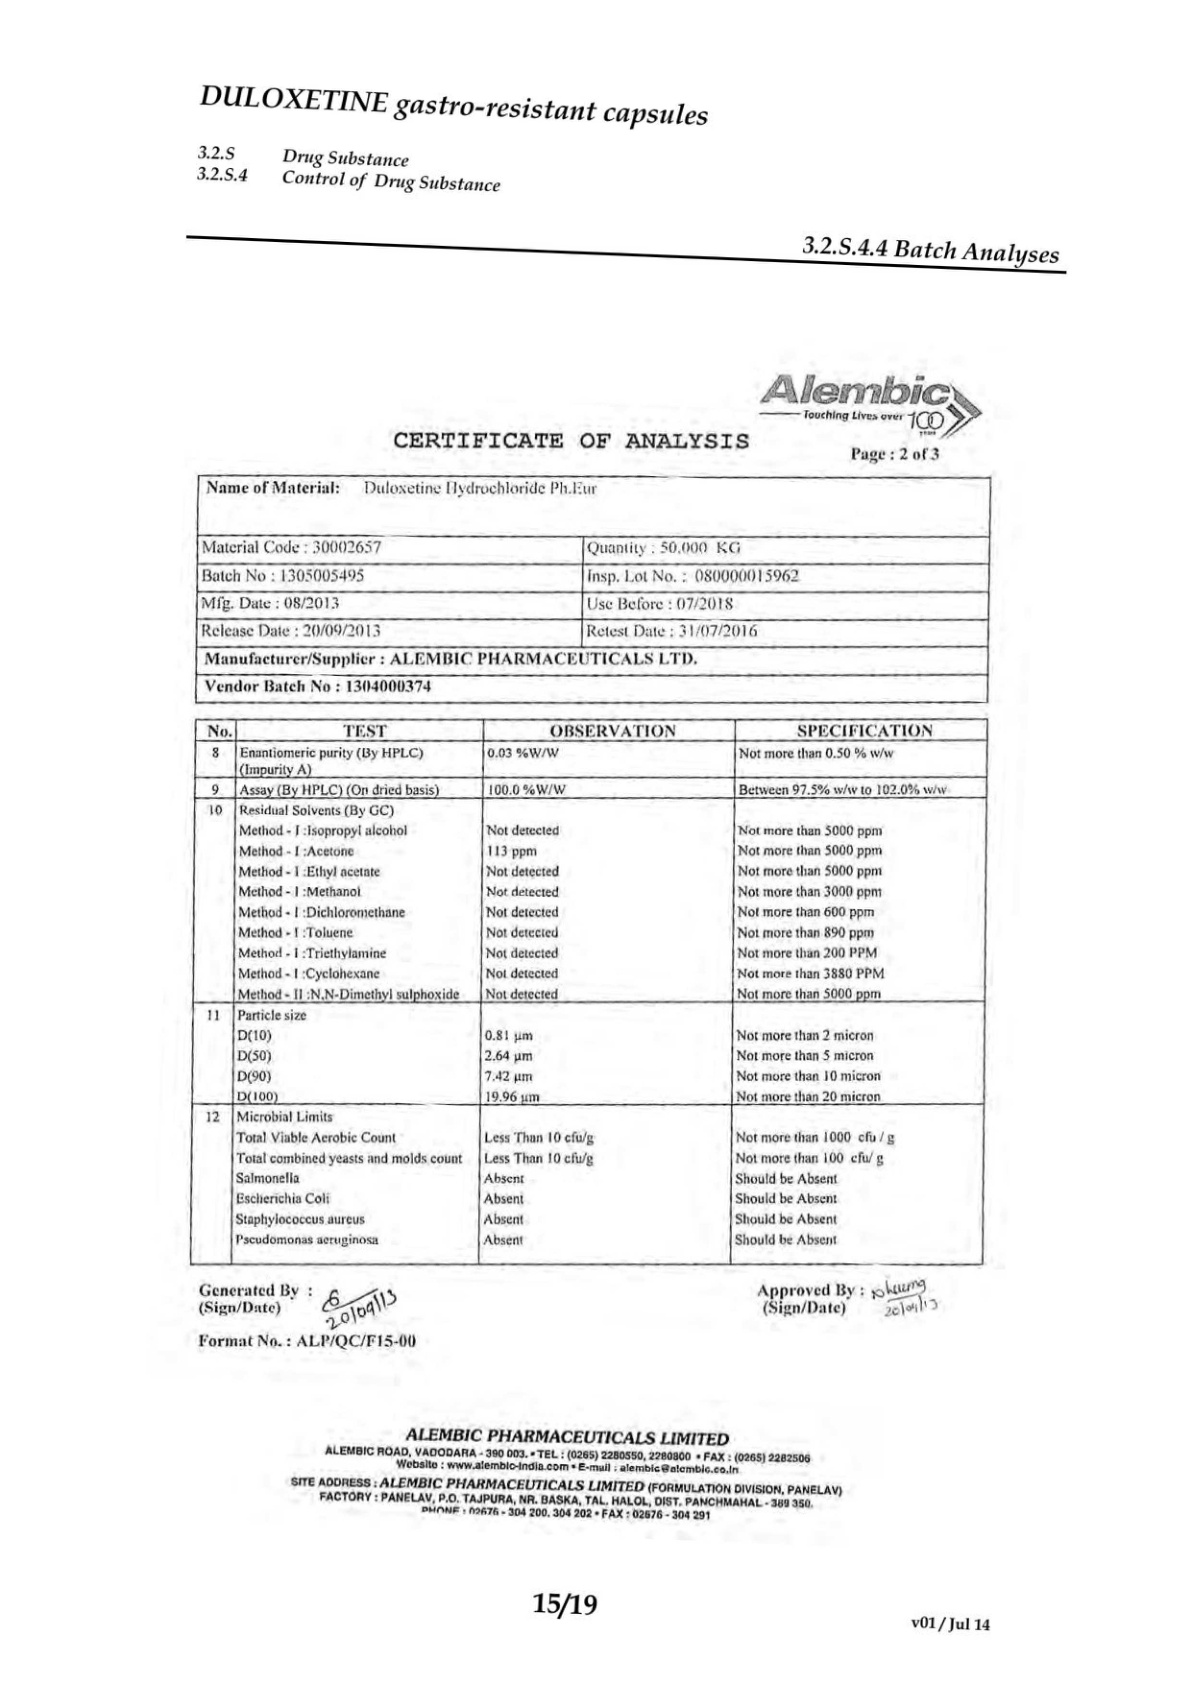full_lined: (190, 717, 989, 1266)
merged_cells: (195, 475, 992, 705)
